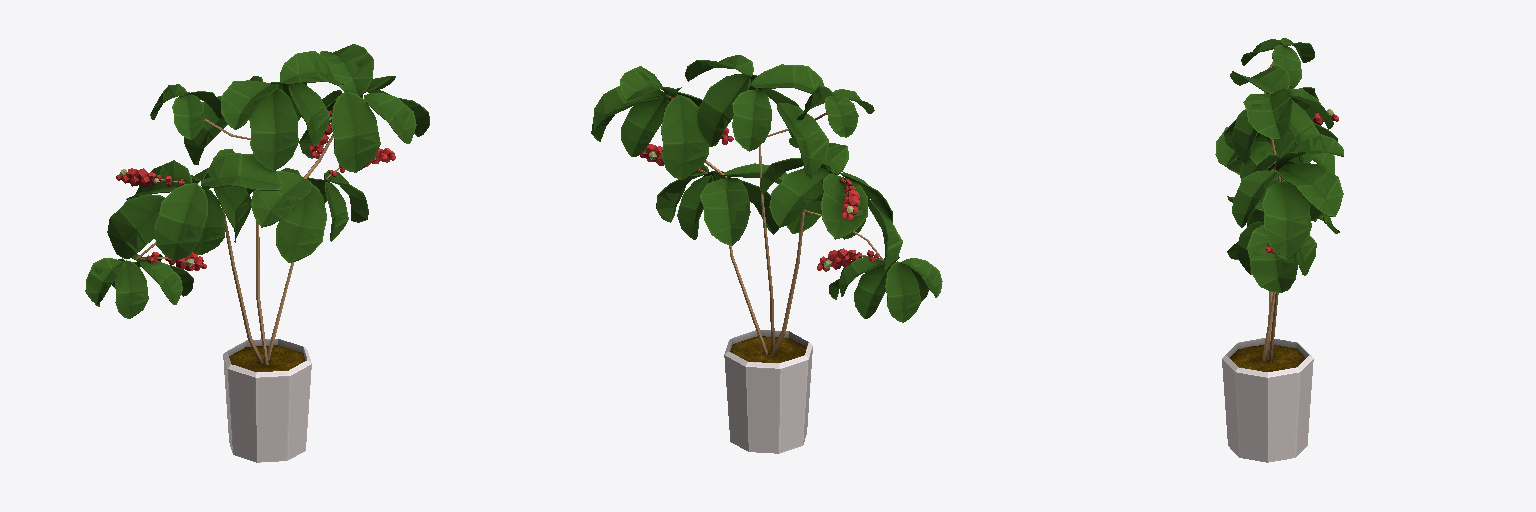
The picture shows the model from 3 angles: view 1: azimuth 30°, elevation 25°; view 2: azimuth 150°, elevation 25°; view 3: azimuth 270°, elevation 25°; orthographic projection.
Visible parts, largest first — view 1: CoffePlant_mehs; view 2: CoffePlant_mehs; view 3: CoffePlant_mehs.
Boxes of the visible parts, x1=… form: CoffePlant_mehs: x1=85, y1=44, x2=429, y2=462; CoffePlant_mehs: x1=591, y1=55, x2=942, y2=453; CoffePlant_mehs: x1=1215, y1=38, x2=1343, y2=462.
Size of the model in its own units: 8.47 by 8.99 by 2.81.
1 materials, 1 textured.